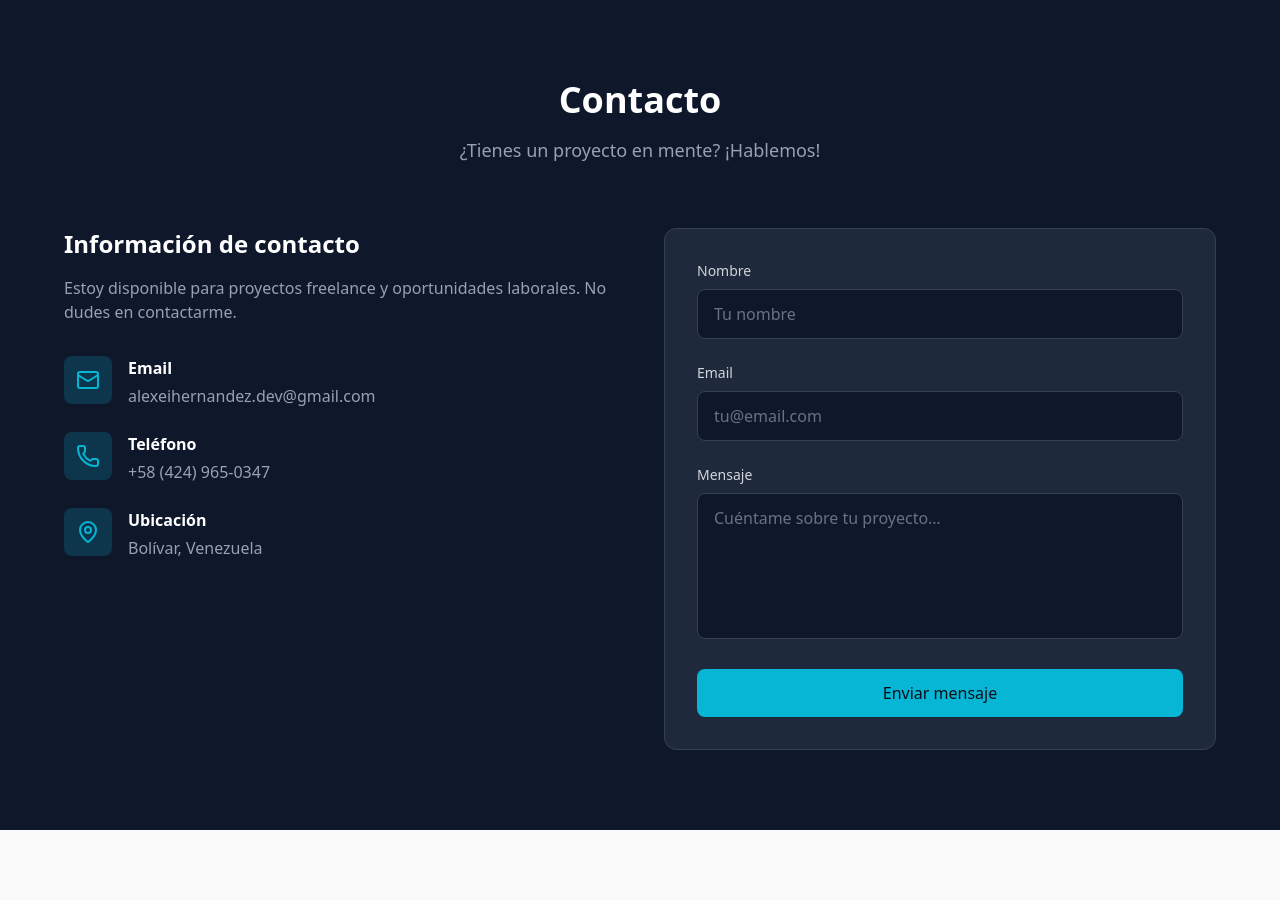
Test: Contact form › dismisses the error toast when clicking the close button
Type "Alexei" into the field labelled "Nombre".
click(940, 314); type("Alexei")  # box [697,289,1183,339]
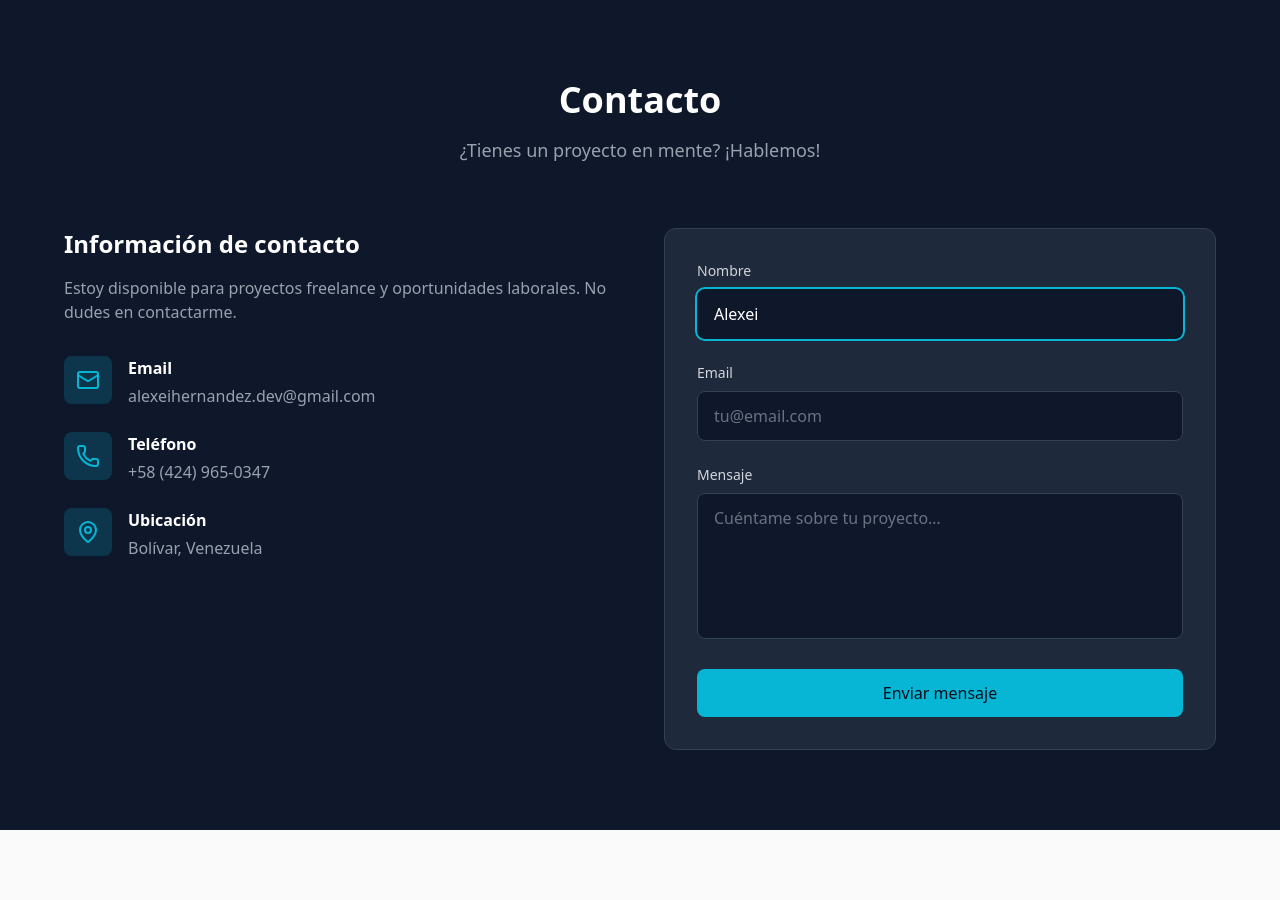
Type "ah@example.com" into the field labelled "Email".
click(940, 416); type("ah@example.com")  # box [697,391,1183,441]
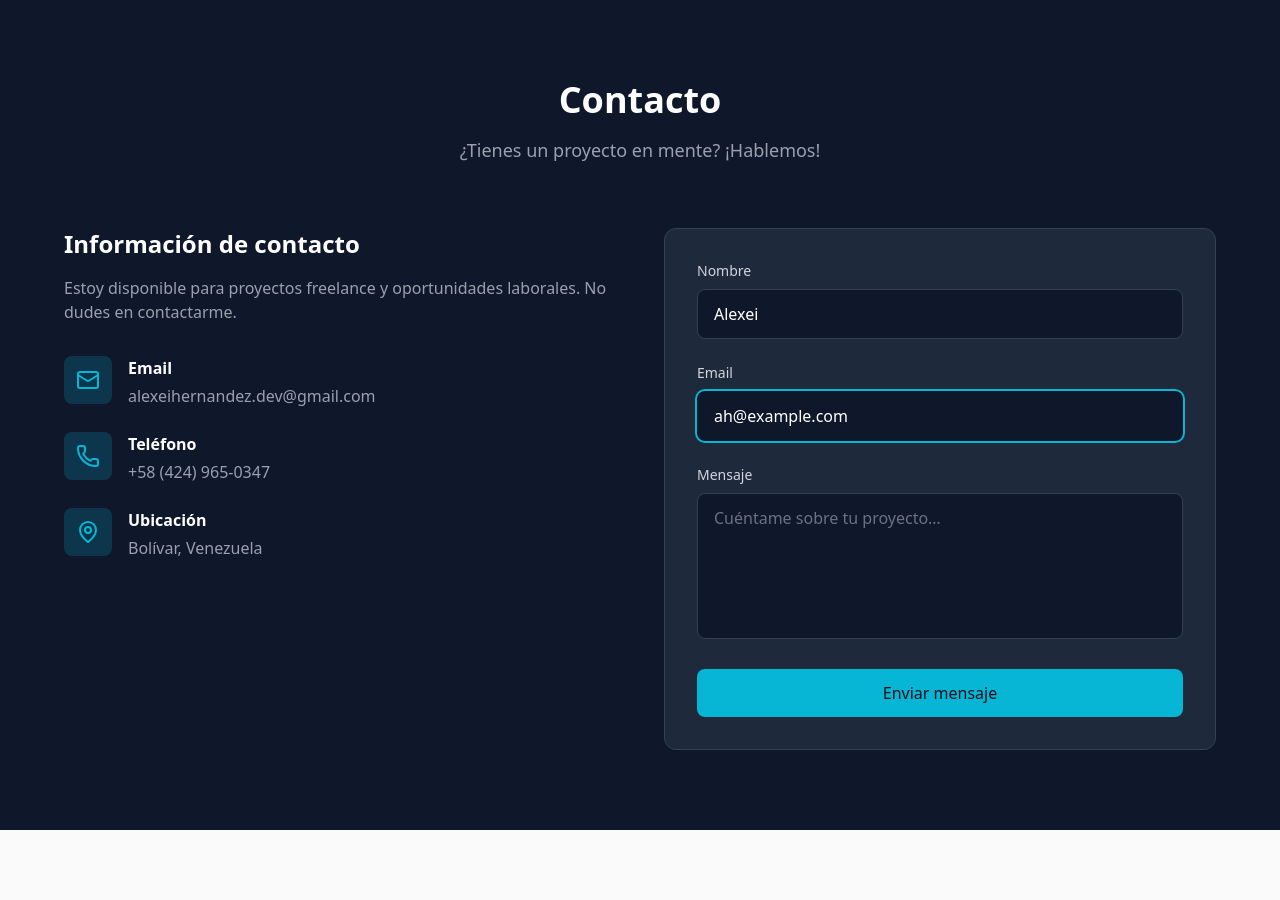
Type "Hello there!" into the text box labelled "Mensaje".
click(940, 566); type("Hello there!")  # box [697,493,1183,639]
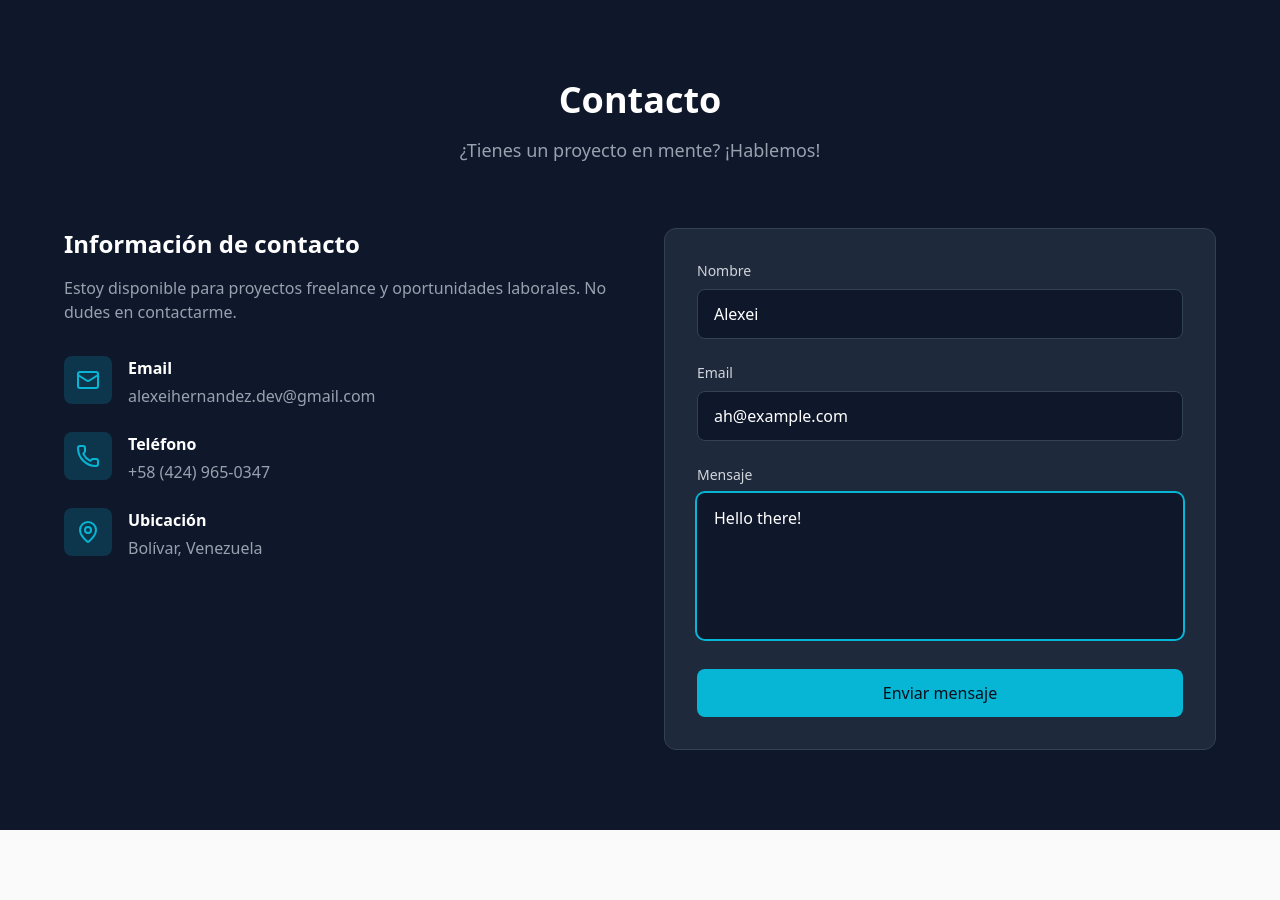
Click the button "Enviar mensaje".
click(940, 693)  # box [697,669,1183,717]
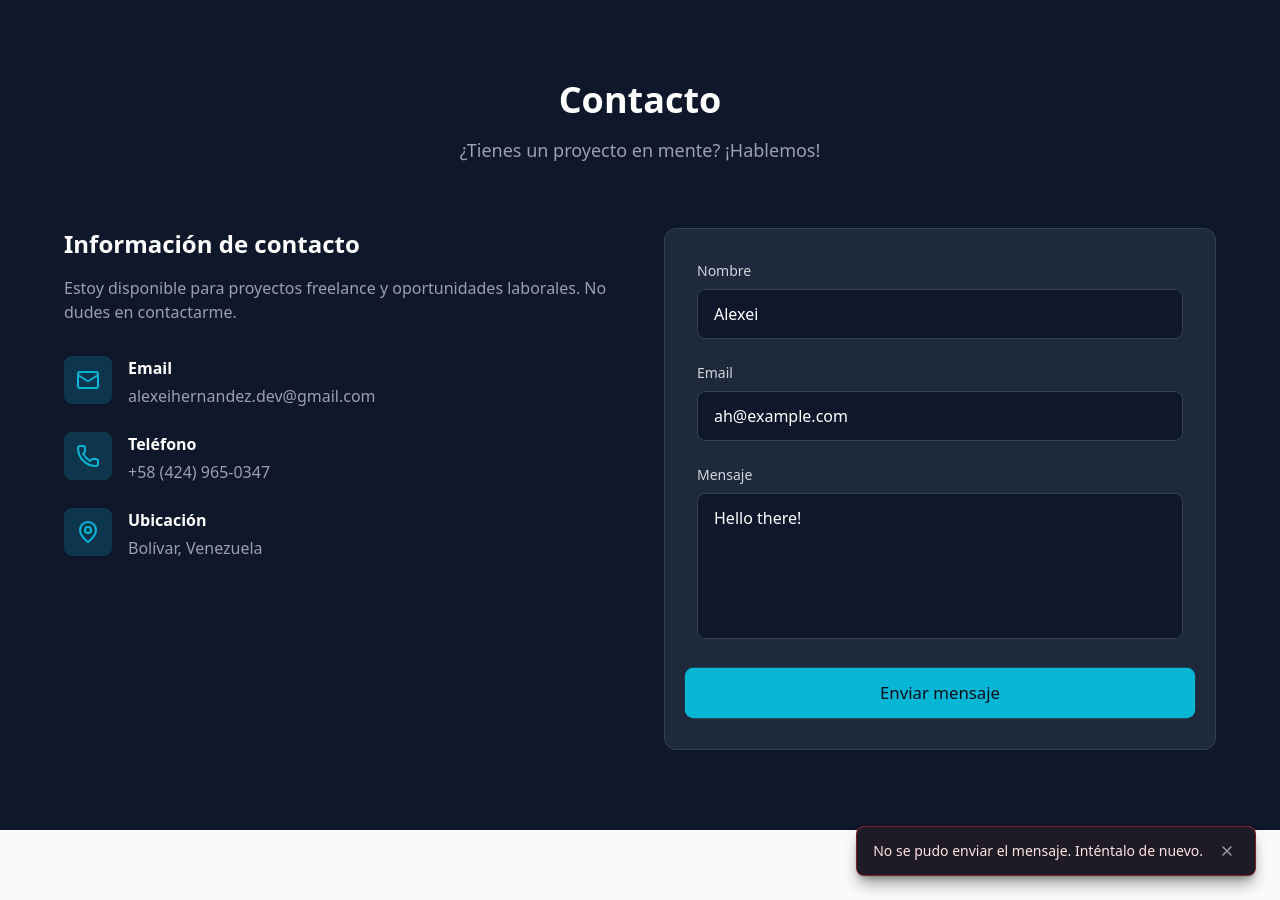
Now the button named "Cerrar aviso" is shown
Click the button named "Cerrar aviso".
click(1227, 851)  # box [1215,839,1239,863]
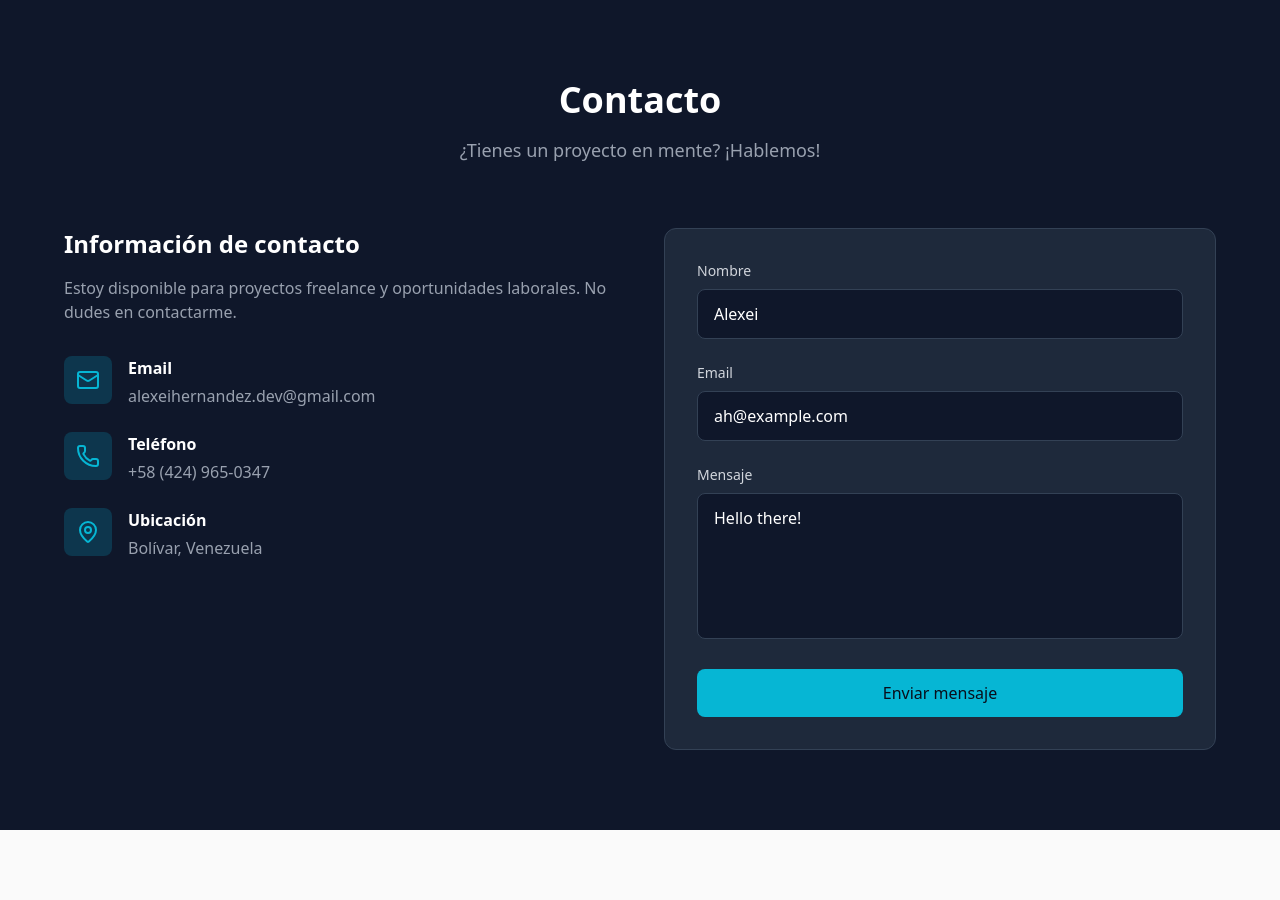
Now the message "No se pudo enviar el mensaje. Inténtalo de nuevo." is gone
